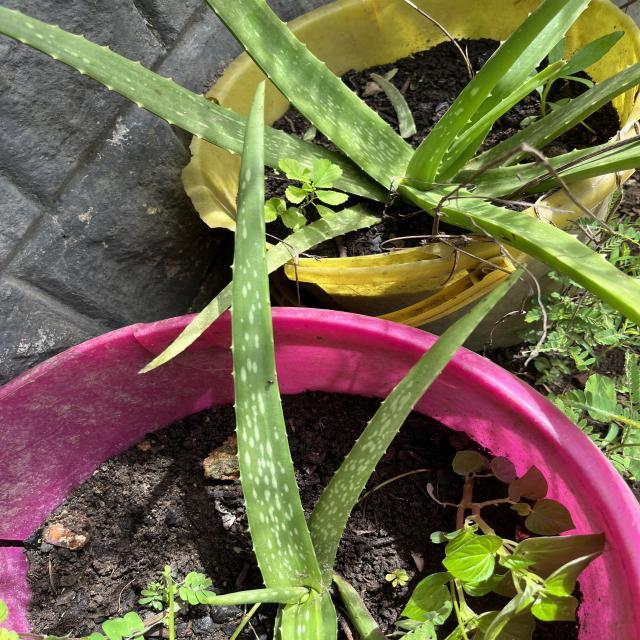Aloe vera: (222, 73, 334, 593)
